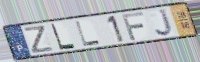1: (107, 14, 126, 44)
F: (121, 11, 146, 42)
J: (155, 7, 175, 37)
L: (74, 20, 103, 48), (50, 23, 78, 51)
Z: (23, 24, 56, 55)
